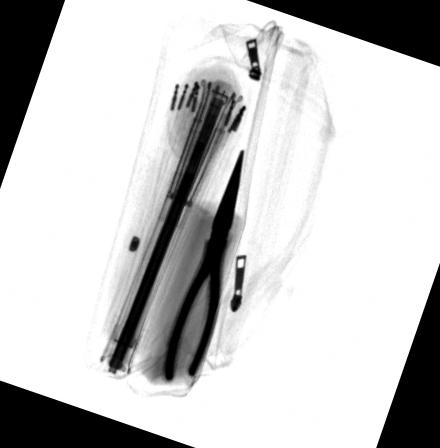Pliers: (161, 147, 245, 384)
